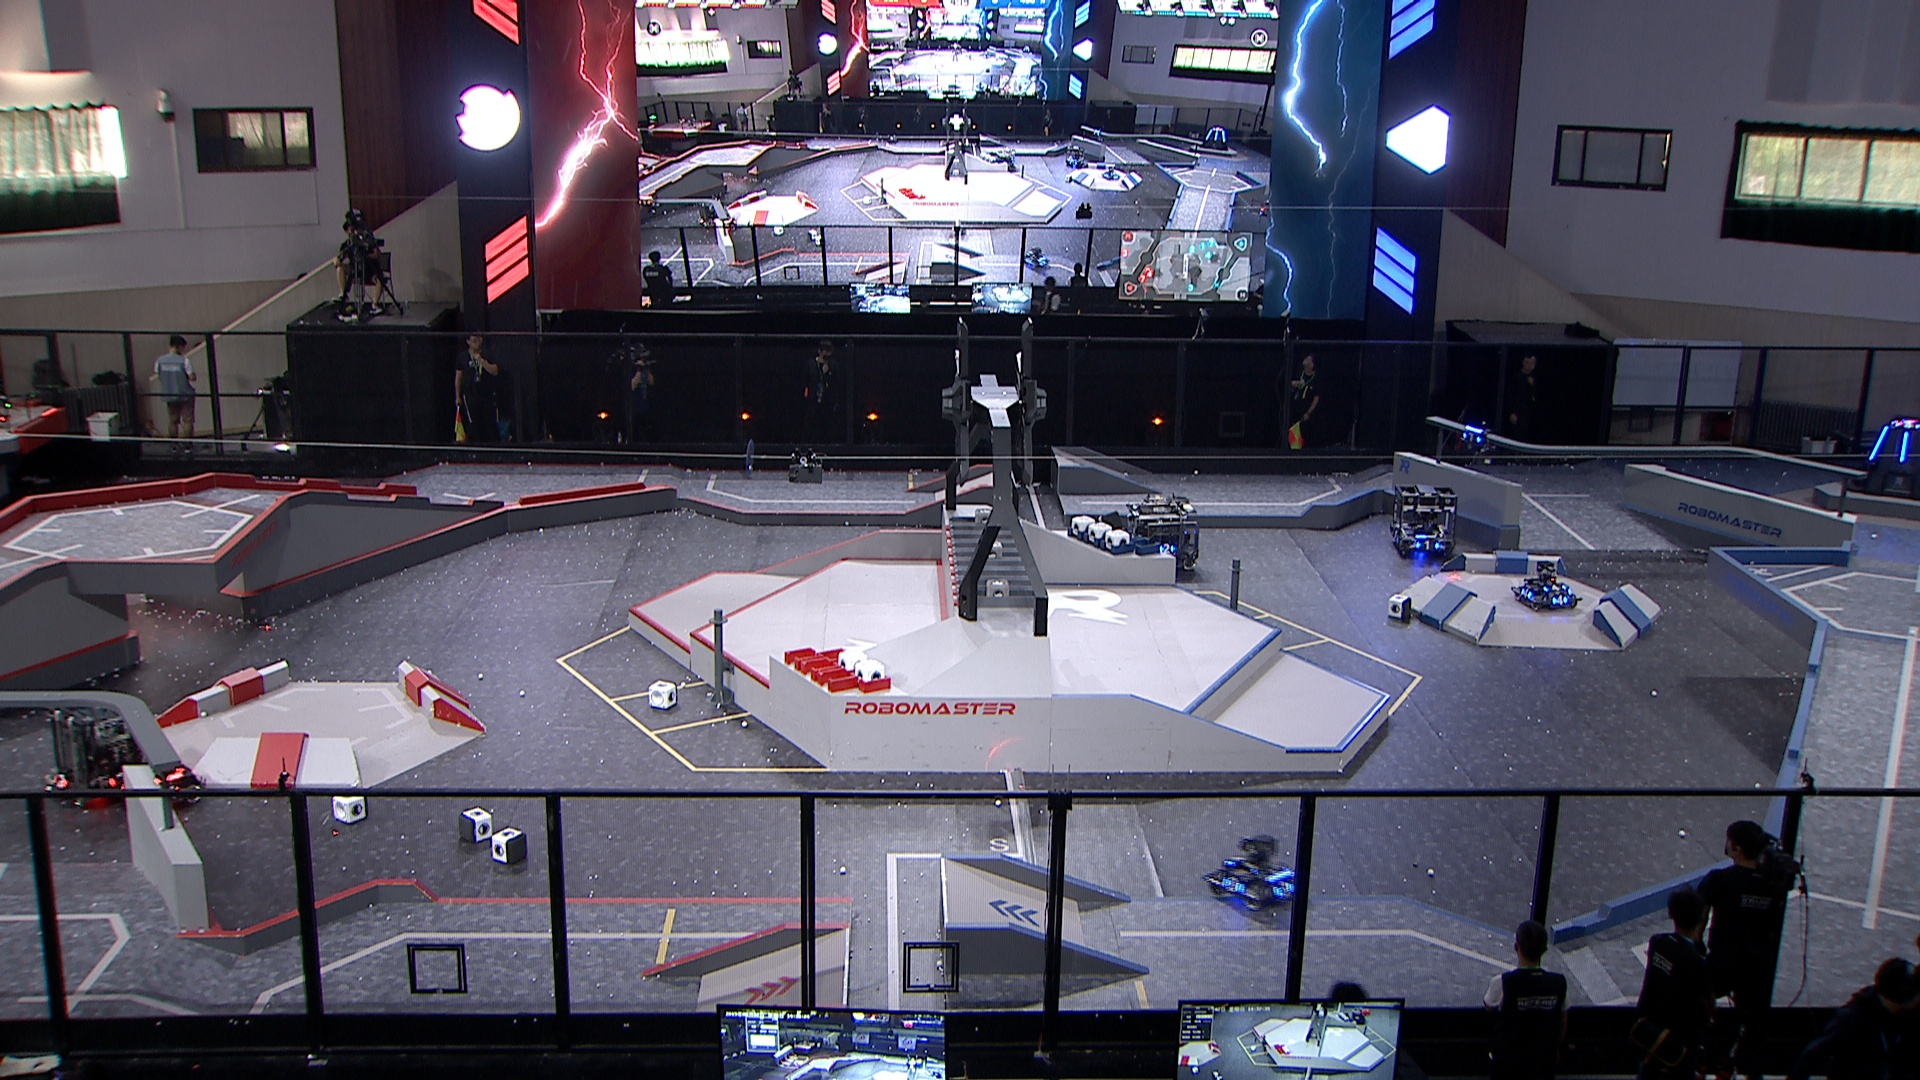armor: (1869, 425, 1890, 460), (1273, 880, 1296, 901), (1220, 876, 1247, 893), (1898, 431, 1911, 465), (1224, 855, 1247, 870), (1414, 541, 1443, 553), (51, 773, 69, 790), (1549, 593, 1571, 607), (1462, 433, 1484, 446), (1158, 542, 1176, 556), (1542, 583, 1567, 593), (1391, 527, 1403, 546), (1519, 588, 1534, 600)
base: (1846, 417, 1920, 505)
car: (41, 698, 152, 807), (1199, 831, 1307, 911), (107, 741, 202, 814), (1125, 495, 1203, 575), (1387, 484, 1460, 556), (1510, 560, 1581, 613)
ignore: (1022, 244, 1050, 272), (1200, 127, 1230, 152), (695, 202, 721, 229), (993, 148, 1019, 174), (1065, 142, 1088, 167), (637, 194, 665, 214), (1894, 419, 1920, 433), (723, 214, 738, 233), (1101, 166, 1121, 181), (1092, 128, 1106, 144)
watcher: (1460, 425, 1495, 465)
